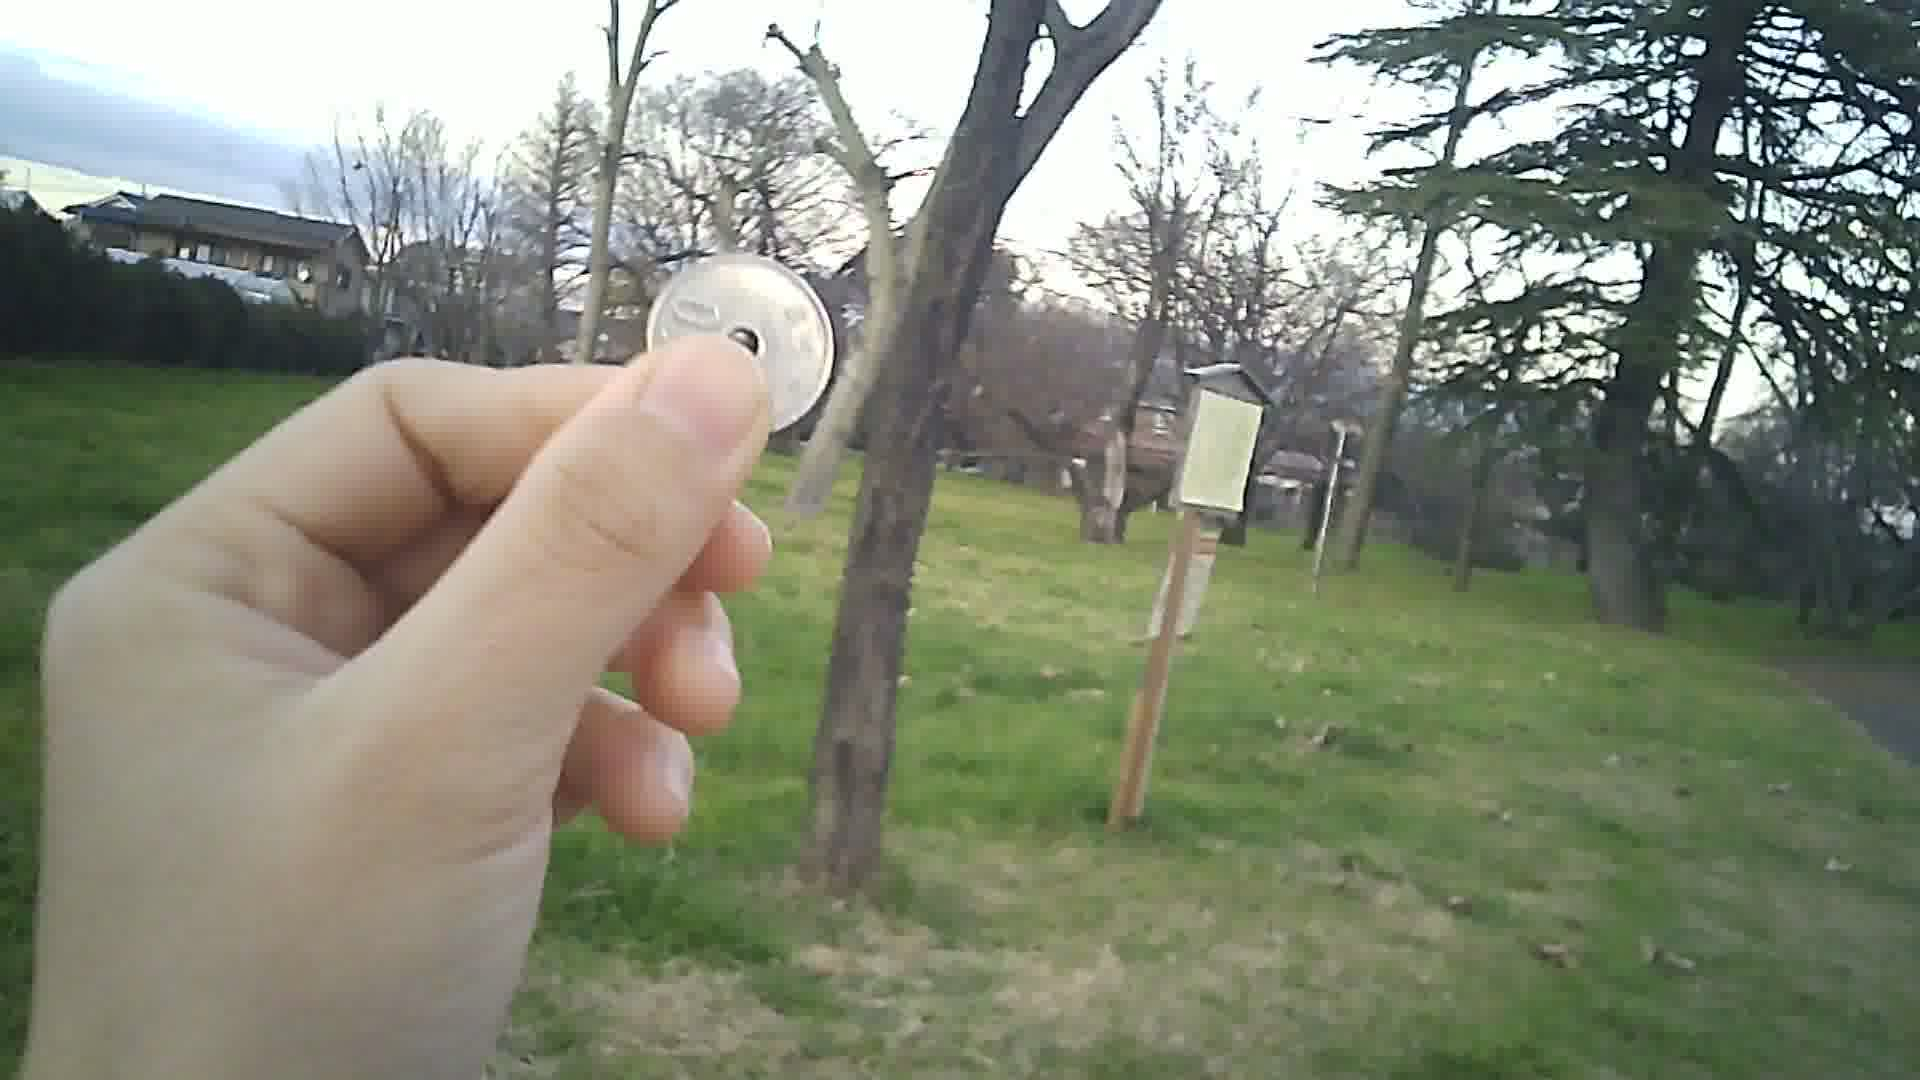50 Yen: (642, 245, 837, 439)
